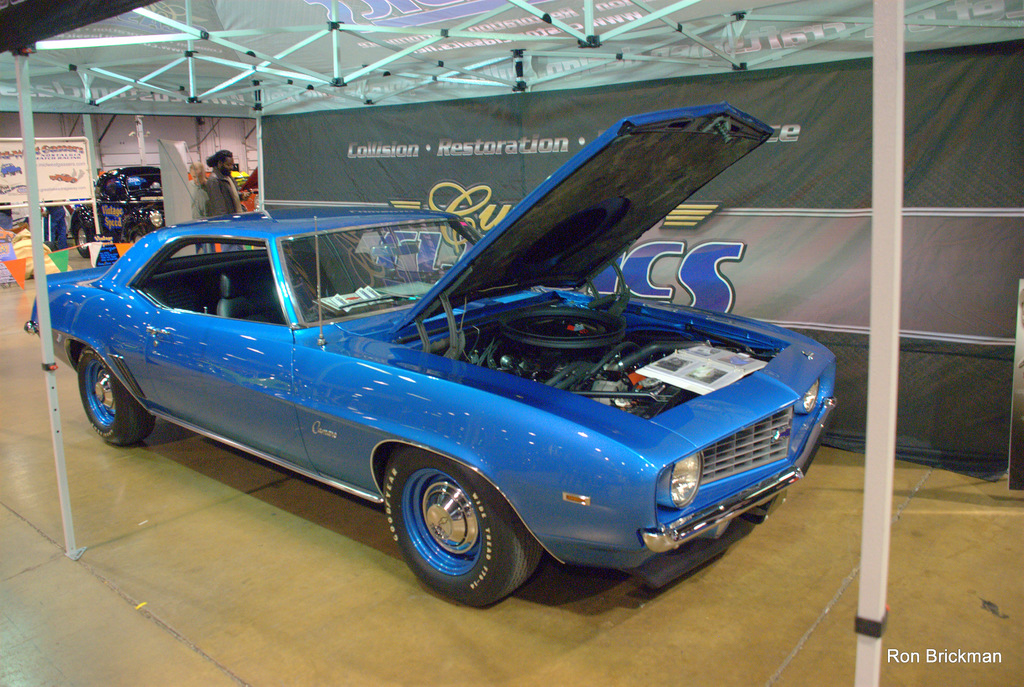Car: (24, 101, 837, 608), (67, 164, 162, 253)
